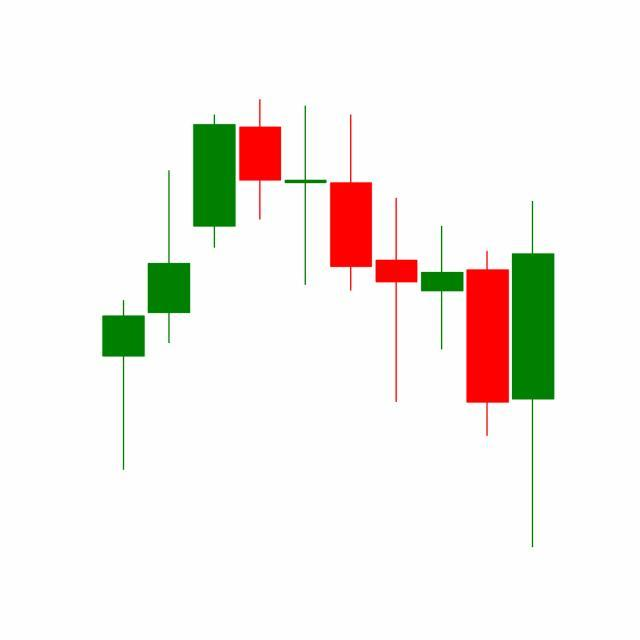Hikkake Pattern: (283, 102, 512, 440)
